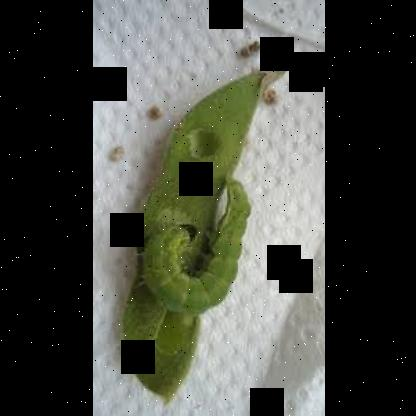oruga: (134, 175, 254, 315)
